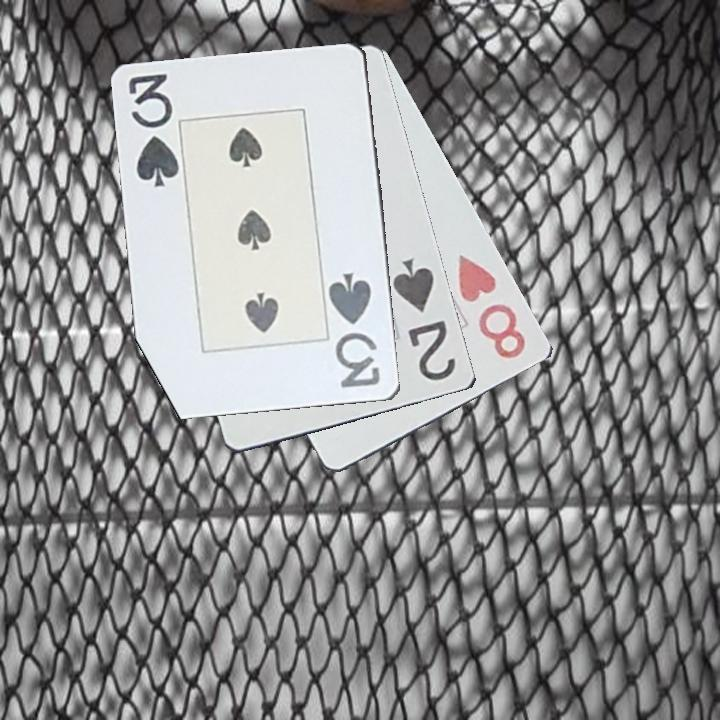2s: (389, 255, 459, 385)
3s: (125, 70, 183, 191), (327, 269, 384, 391)
8h: (451, 251, 529, 362)
